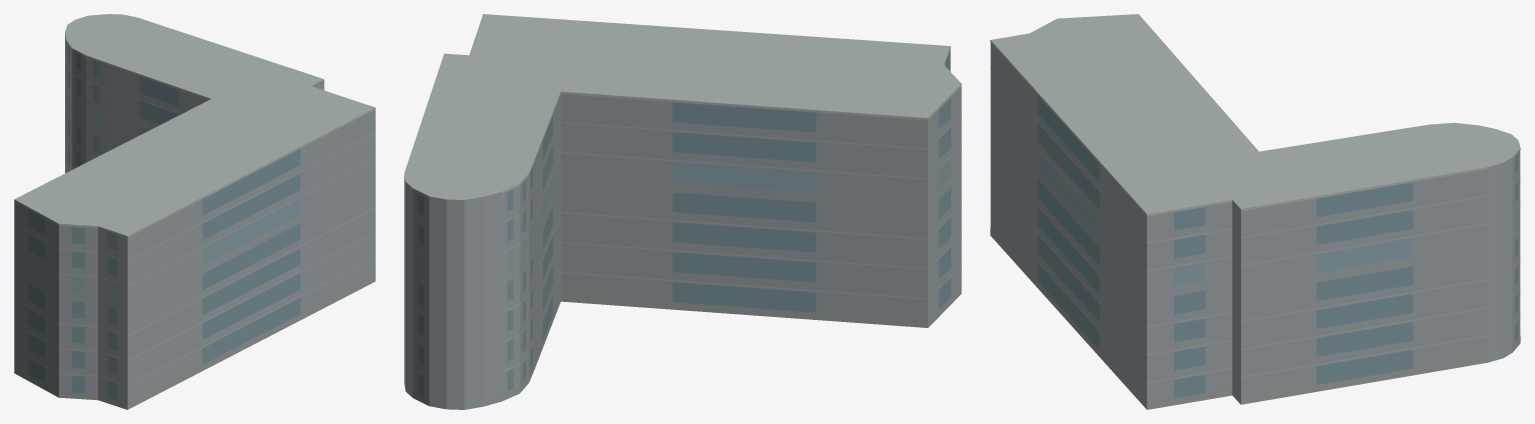
The model's file is residential-27f9cb60-78ec-4346-af6f-b5034dc39370.glb.
The picture shows the model from 3 angles, left to right: view 1: azimuth 30°, elevation 25°; view 2: azimuth 150°, elevation 25°; view 3: azimuth 270°, elevation 25°; orthographic projection. The views are drawn at different scales.
Parts seen in each view (by area): view 1: residential-27f9cb60-78ec-4346-af6f-b5034dc39370.tmp; view 2: residential-27f9cb60-78ec-4346-af6f-b5034dc39370.tmp; view 3: residential-27f9cb60-78ec-4346-af6f-b5034dc39370.tmp.
Part boxes in pixels (x1,y1,x2,y2): residential-27f9cb60-78ec-4346-af6f-b5034dc39370.tmp: [14, 14, 375, 409]; residential-27f9cb60-78ec-4346-af6f-b5034dc39370.tmp: [404, 14, 961, 409]; residential-27f9cb60-78ec-4346-af6f-b5034dc39370.tmp: [990, 14, 1520, 409].
Bounding box in the file's own units: 46.9 × 21.35 × 52.44.
